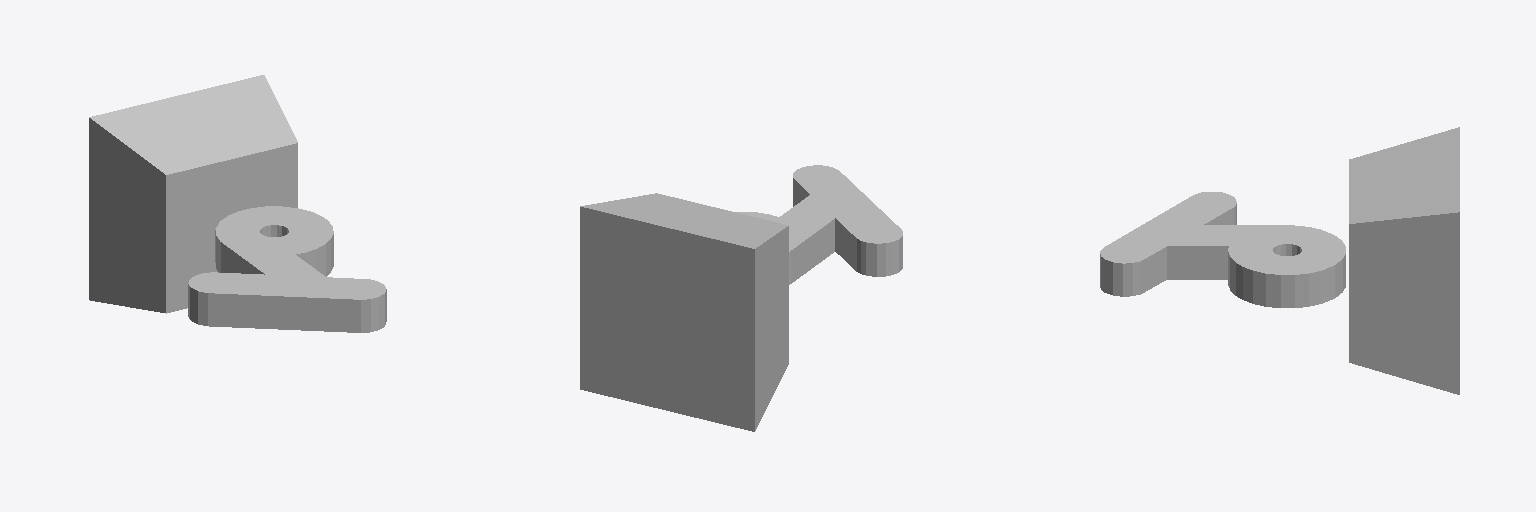
Rendered from to_statue.obj.
3 views of the same model, side by side, from view 1: azimuth 30°, elevation 25°; view 2: azimuth 150°, elevation 25°; view 3: azimuth 270°, elevation 25° (orthographic).
Parts seen in each view (by area): view 1: Cube_Cube.001, Curve; view 2: Cube_Cube.001, Curve; view 3: Cube_Cube.001, Curve.
Boxes of the visible parts, box(x1,y1,x2,y2) form: Cube_Cube.001: box(89, 75, 297, 313); Curve: box(188, 206, 386, 332); Cube_Cube.001: box(580, 193, 788, 431); Curve: box(736, 165, 902, 284); Cube_Cube.001: box(1349, 127, 1459, 394); Curve: box(1100, 192, 1345, 307).
Bounding box in the file's own units: 3.31 × 2.95 × 5.26.